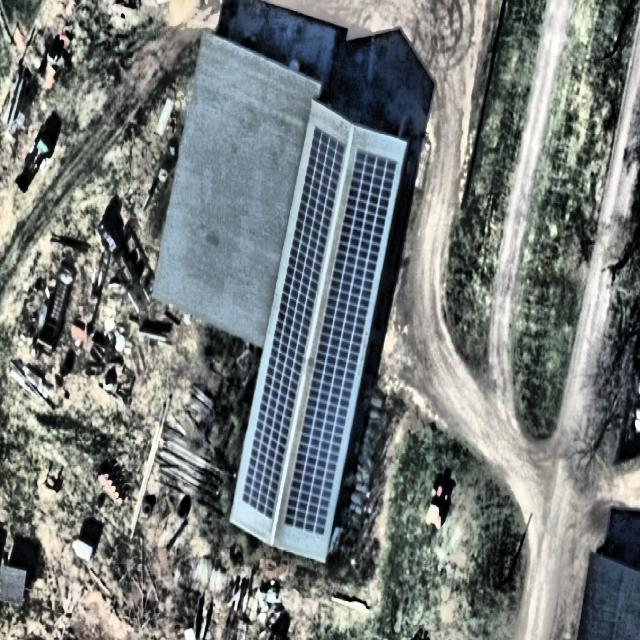roof_pv: (280, 421, 344, 535), (242, 416, 294, 524), (284, 195, 332, 296), (320, 276, 373, 366), (302, 357, 357, 438), (336, 208, 382, 300), (304, 127, 346, 225), (267, 280, 319, 358), (349, 146, 397, 230), (256, 350, 304, 425)
